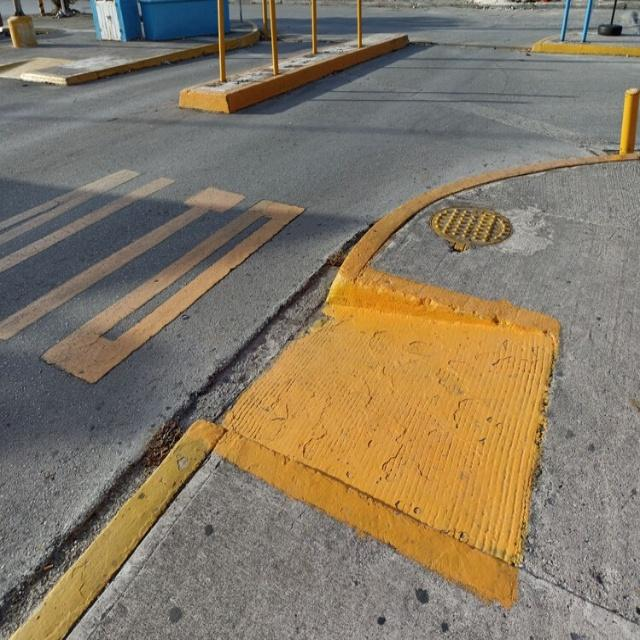curb: (10, 420, 525, 639), (327, 156, 639, 335), (180, 36, 408, 113), (20, 43, 217, 86), (528, 38, 639, 57), (230, 29, 259, 50)
